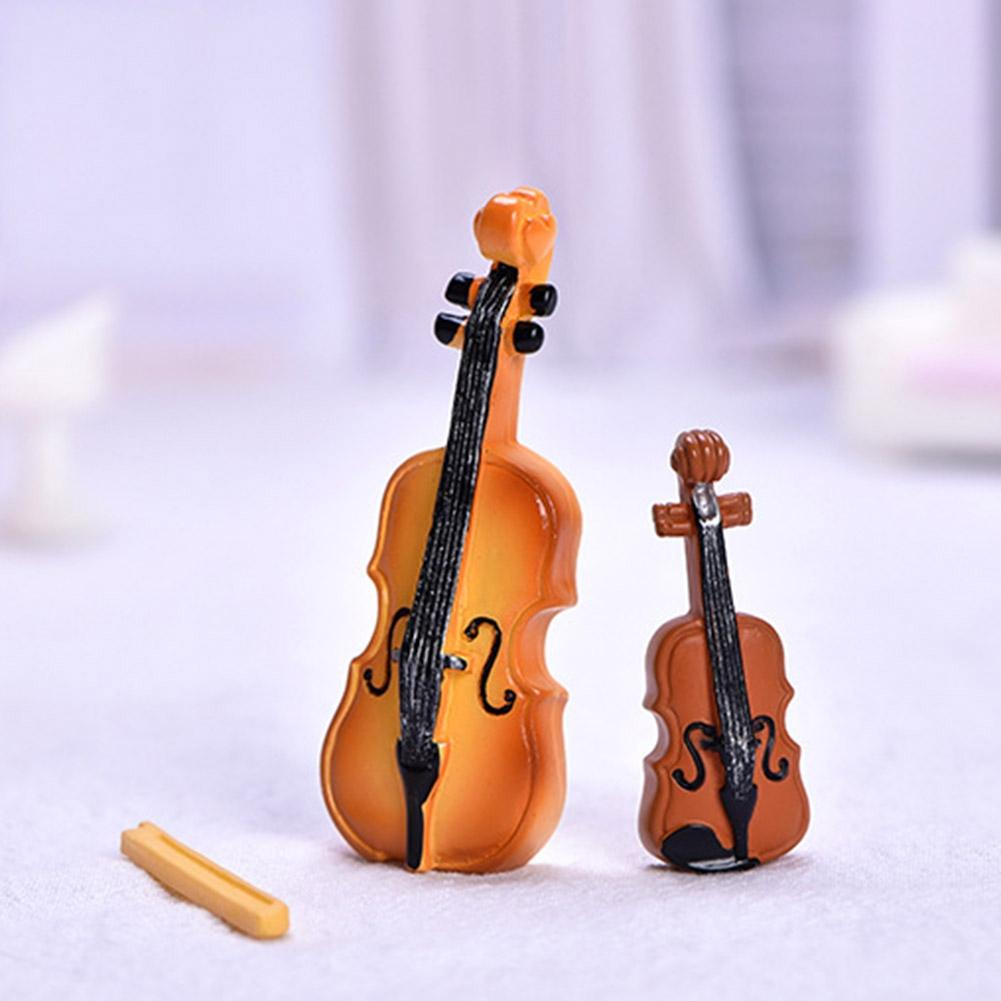Violin: (318, 156, 604, 898), (643, 393, 845, 996)
